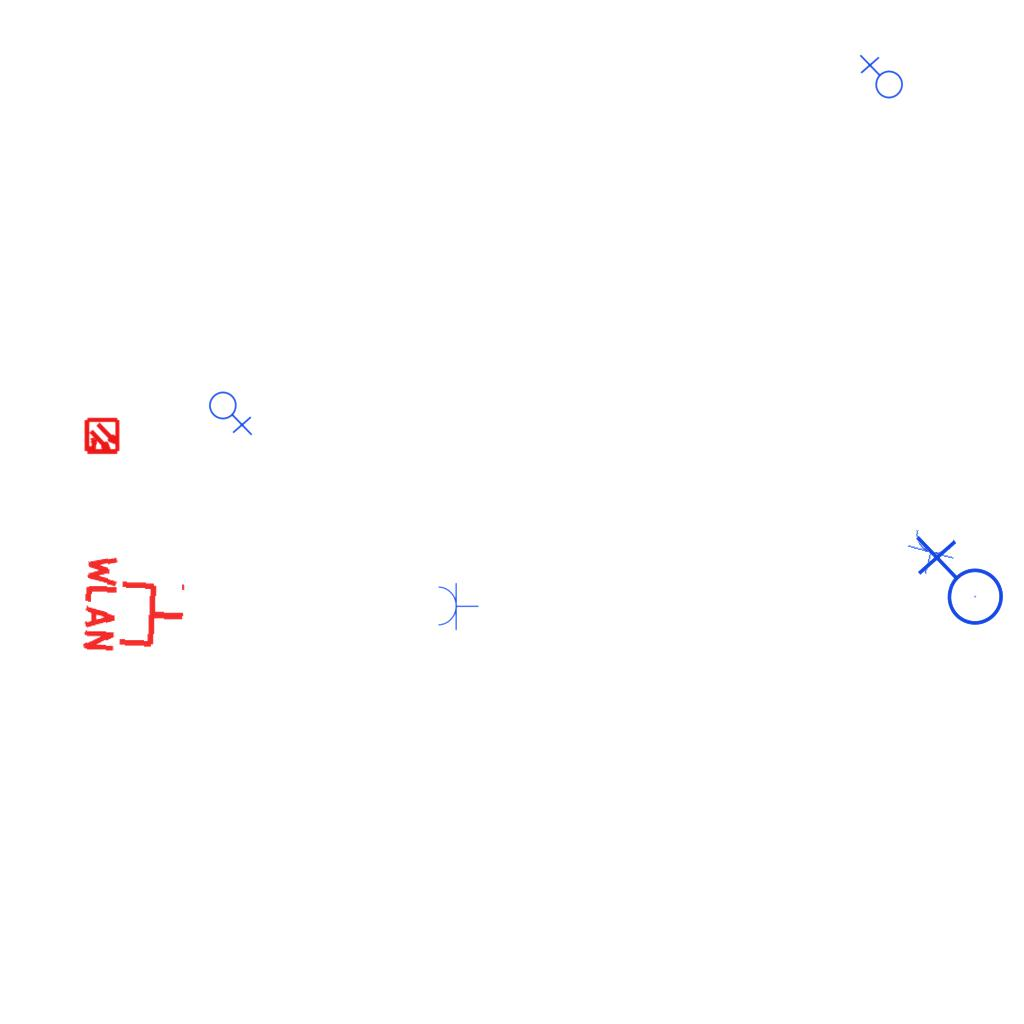Elektroanschluss_allgemein_230V_Geraeteanschlussdose_230V: (911, 535, 1005, 634), (208, 387, 255, 436), (857, 54, 904, 103)
OT_Multisensormelder_(Kombination_RMO_WMD): (74, 409, 130, 465)
Schukosteckdose_einfach: (901, 526, 961, 581), (436, 581, 479, 631)
WLAN: (80, 550, 191, 660)
